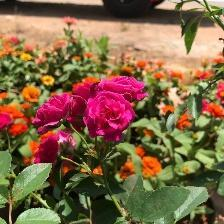rose: (84, 90, 134, 144), (34, 90, 89, 126), (100, 72, 146, 95)
